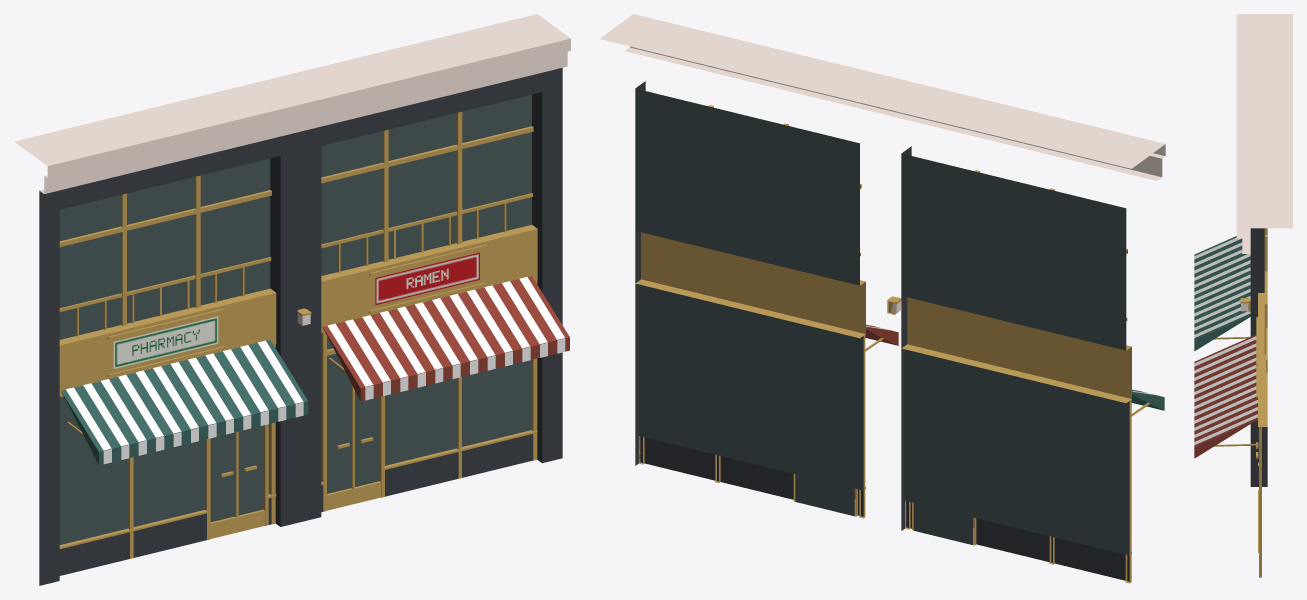
File: base-w4_close.fbx
3 renders of one model, left to right at view 1: azimuth 30°, elevation 25°; view 2: azimuth 150°, elevation 25°; view 3: azimuth 270°, elevation 25°, orthographic. The views are drawn at different scales.
Parts seen in each view (by area): view 1: a2011/600/base-w4_close; view 2: a2011/600/base-w4_close; view 3: a2011/600/base-w4_close.
Boxes of the visible parts, x1=… form: a2011/600/base-w4_close: x1=14, y1=14, x2=570, y2=585; a2011/600/base-w4_close: x1=599, y1=14, x2=1165, y2=583; a2011/600/base-w4_close: x1=1194, y1=14, x2=1292, y2=577.
Bounding box in the file's own units: 9 × 7 × 1.75.
